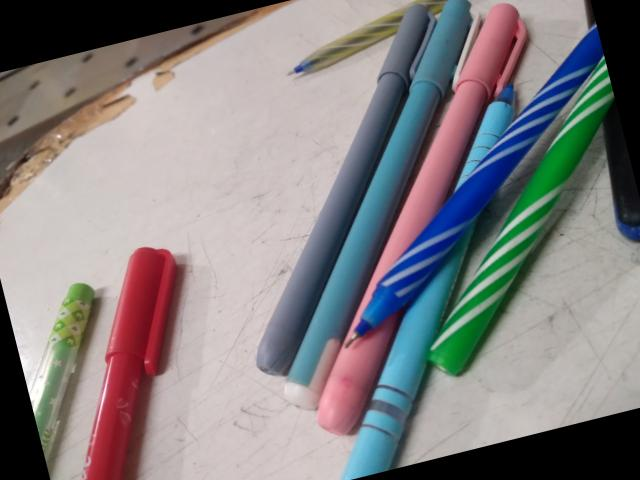PEN: (325, 8, 624, 363), (420, 52, 632, 388), (66, 235, 184, 480), (267, 0, 591, 81), (4, 269, 102, 464)
